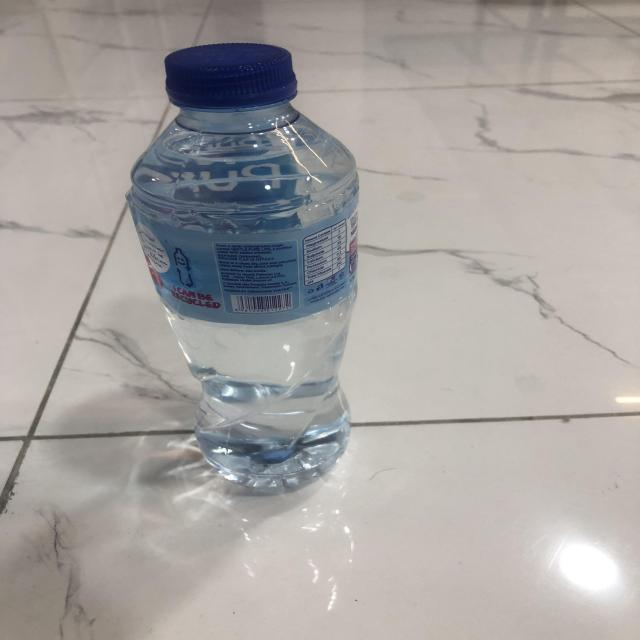bottle-plastic: (120, 37, 367, 494)
